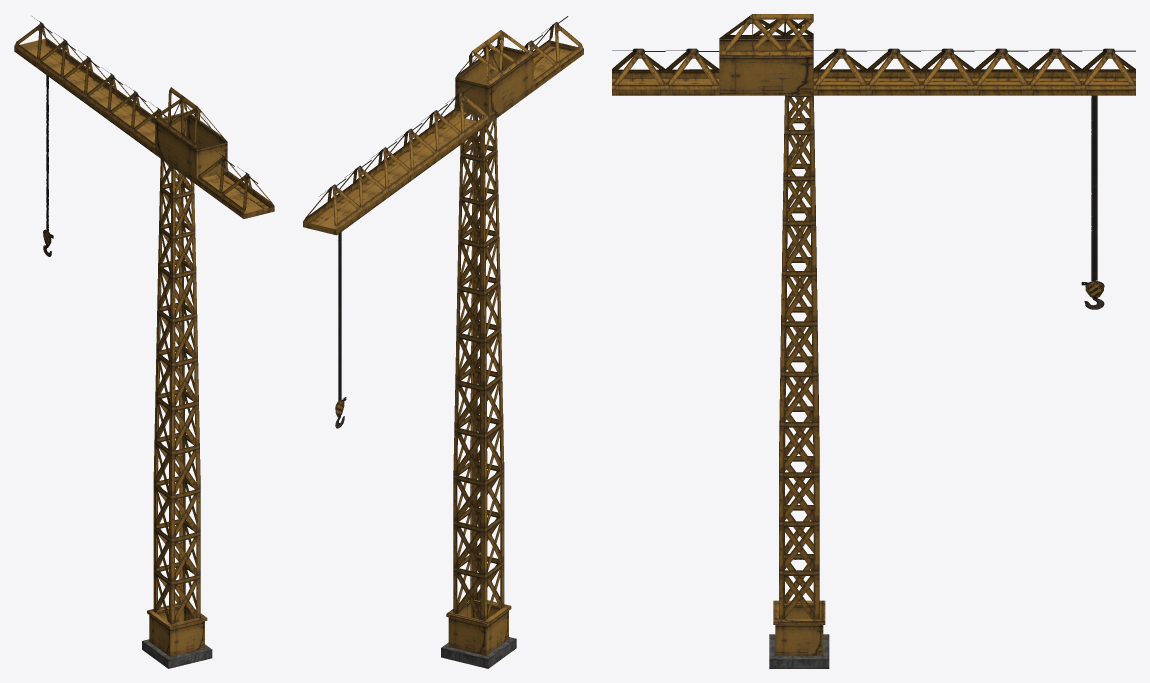
The model's file is Crane.fbx.
The picture shows the model from 3 angles, left to right: view 1: azimuth 30°, elevation 25°; view 2: azimuth 150°, elevation 25°; view 3: azimuth 270°, elevation 25°; orthographic projection. The views are drawn at different scales.
Parts seen in each view (by area): view 1: Crane; view 2: Crane; view 3: Crane.
Part boxes in pixels (box(x1,y1,x2,y2)): Crane: box(14, 16, 274, 668); Crane: box(303, 16, 583, 668); Crane: box(612, 14, 1135, 668).
Size of the model in its own units: 1.02 by 12.5 by 9.24.
1 material, 1 textured.
